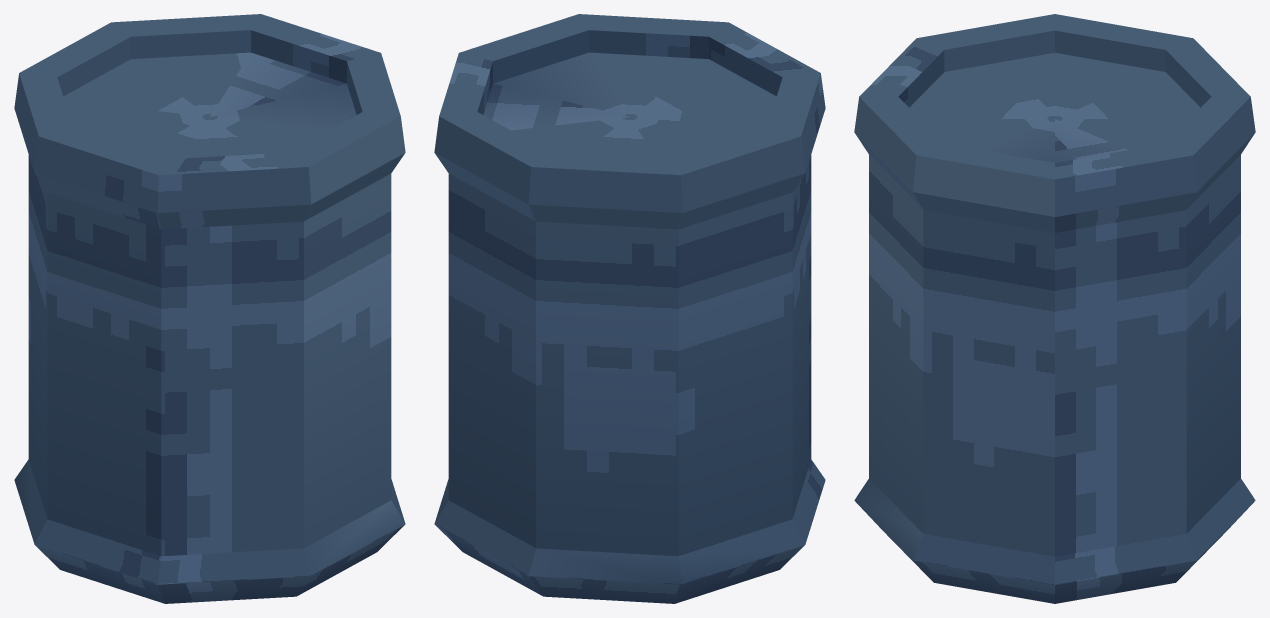
File: cydress.barrel.glb
The picture shows the model from 3 angles, left to right: view 1: azimuth 30°, elevation 25°; view 2: azimuth 150°, elevation 25°; view 3: azimuth 270°, elevation 25°; orthographic projection.
Visible parts, largest first — view 1: kit_body; view 2: kit_body; view 3: kit_body.
Boxes of the visible parts, x1,y1,x2,y2 form: kit_body: (14,14,405,603); kit_body: (434,14,825,603); kit_body: (854,14,1255,603).
Size of the model in its own units: 0.82 by 0.98 by 0.82.
1 material, 1 textured.
